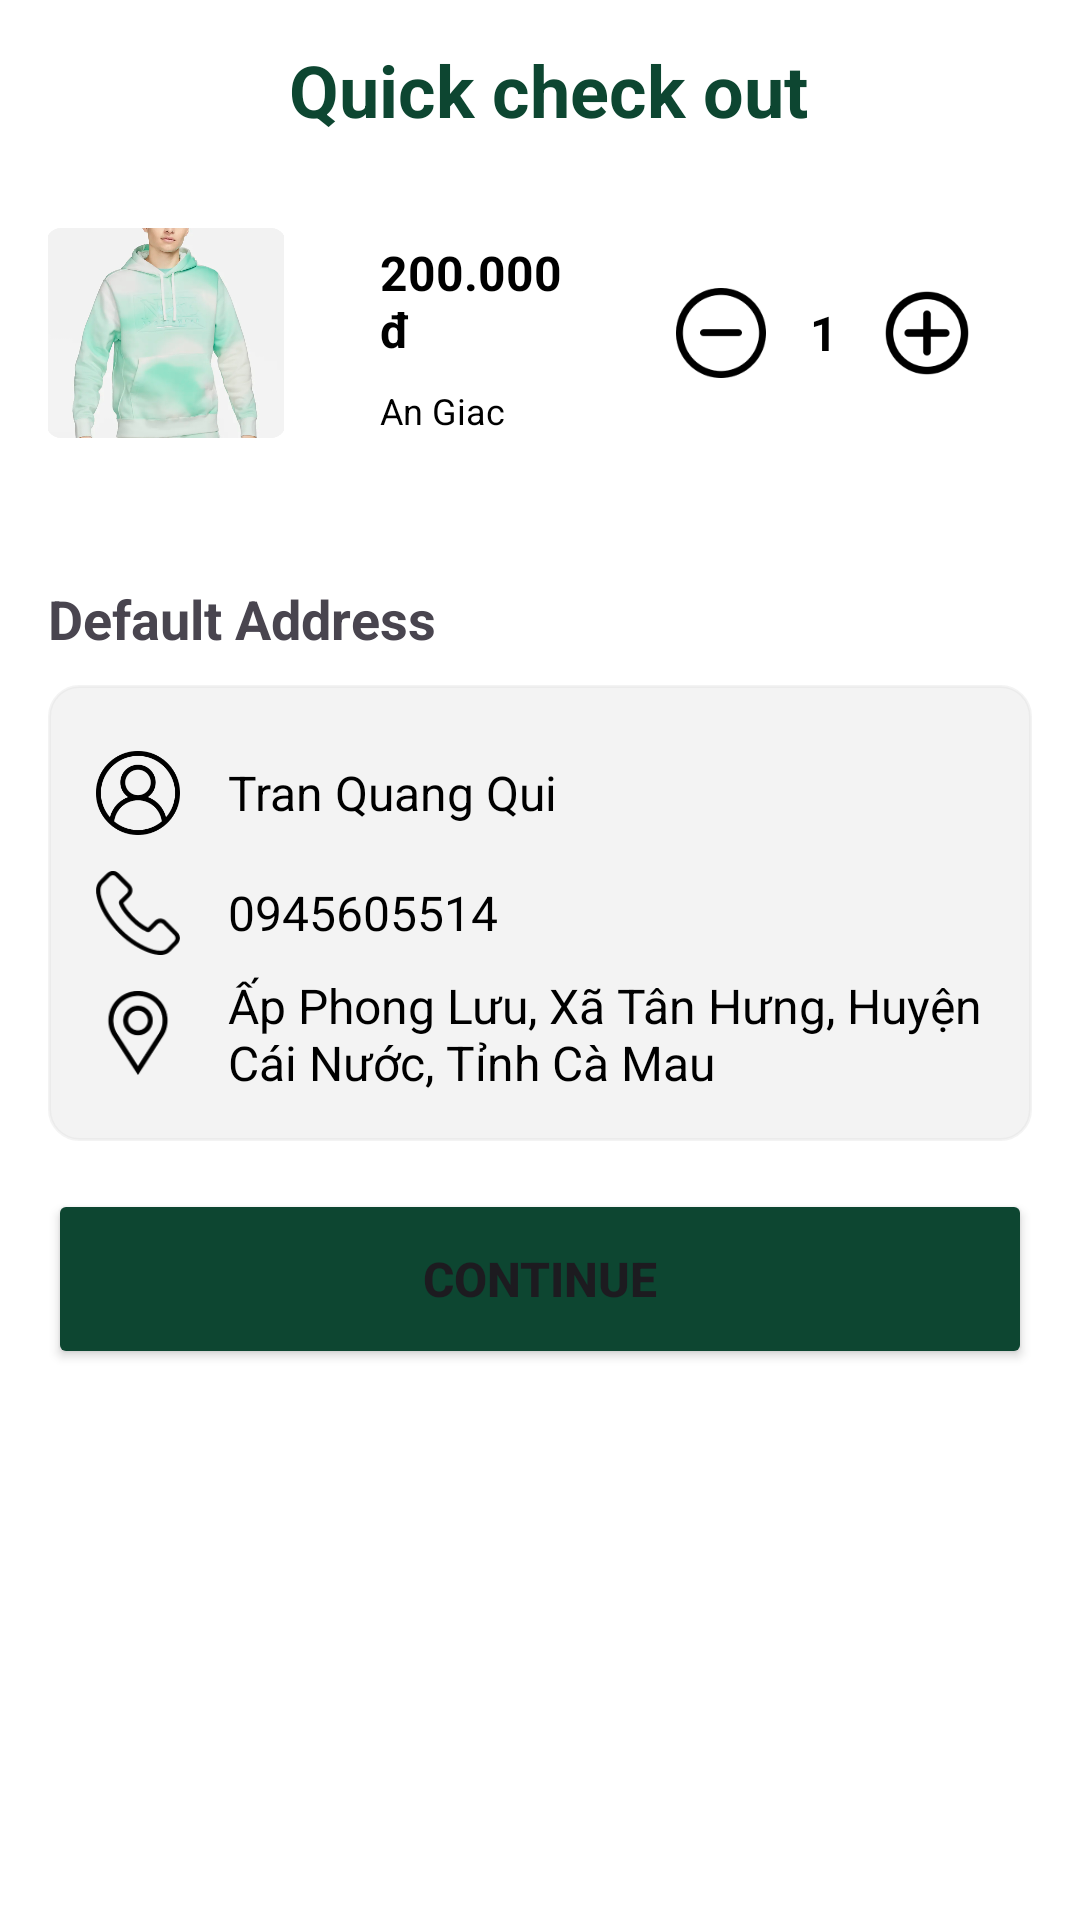

Screen size 1080px×1920px. Icon name, then its center in pixels as (x=x, y=y):
increase: (x=927, y=333)
location: (x=138, y=1033)
minus: (x=721, y=333)
product: (x=165, y=333)
telephone: (x=138, y=913)
user: (x=138, y=793)
